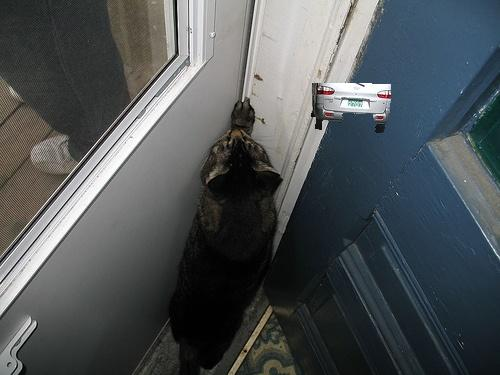tampered: (312, 84, 391, 133)
